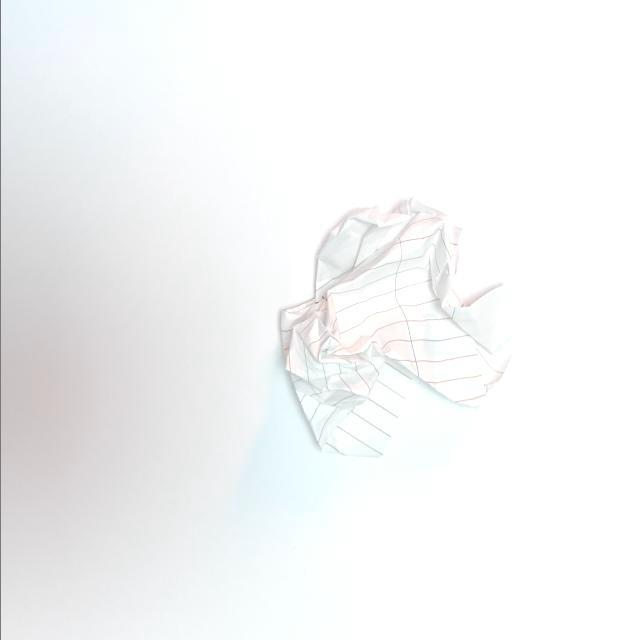paper: (254, 167, 530, 468)
